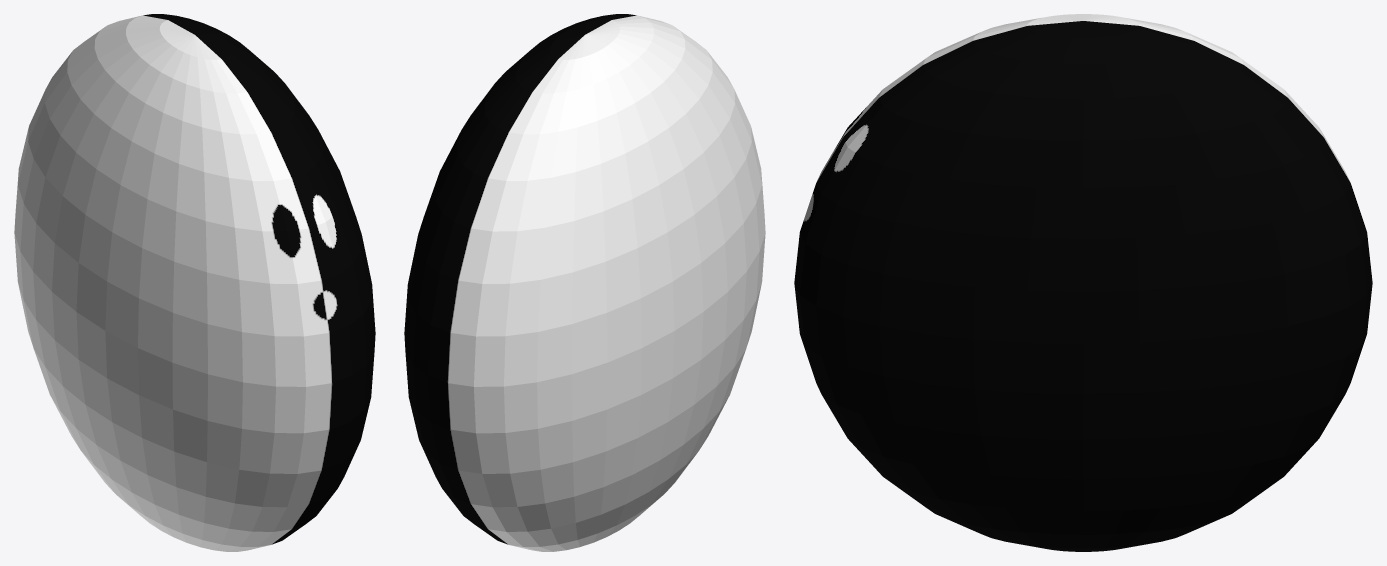
The model's file is enemy.obj.
3 views of the same model, side by side, from view 1: azimuth 30°, elevation 25°; view 2: azimuth 150°, elevation 25°; view 3: azimuth 270°, elevation 25° (orthographic). The views are drawn at different scales.
Visible parts, largest first — view 1: 球; view 2: 球; view 3: 球.
Boxes of the visible parts, <box> form: 球: <box>14,14,375,551</box>; 球: <box>404,14,765,551</box>; 球: <box>794,14,1372,551</box>.
Size of the model in its own units: 0.5 by 1 by 1.
1 material, 1 textured.
